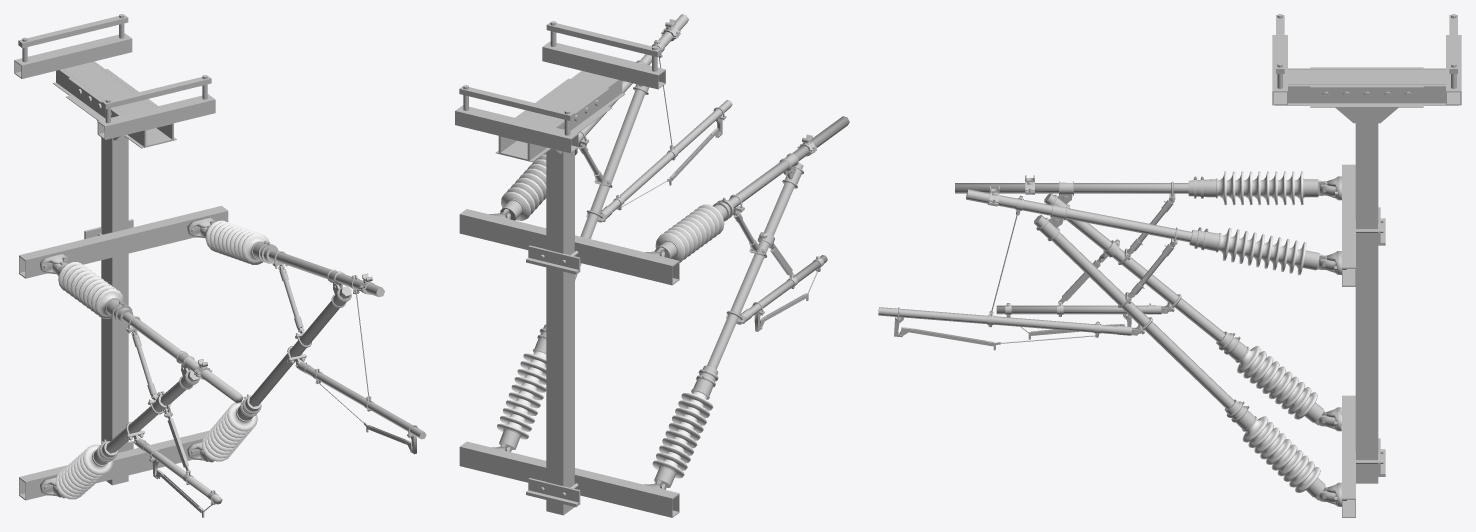
File: gantry_short_transition_2.obj
The picture shows the model from 3 angles, left to right: view 1: azimuth 30°, elevation 25°; view 2: azimuth 150°, elevation 25°; view 3: azimuth 270°, elevation 25°; orthographic projection. The views are drawn at different scales.
Parts seen in each view (by area): view 1: 立方体.106, 立方体.243, 立方体.248, 立方体.098, 立方体.096, 立方体.103, 贝塞尔曲线.182, 贝塞尔曲线.191, 贝塞尔曲线.183, 贝塞尔曲线.192, 贝塞尔曲线.181, 立方体.105 (+4 smaller); view 2: 立方体.106, 立方体.243, 立方体.248, 立方体.098, 立方体.096, 立方体.103, 贝塞尔曲线.192, 贝塞尔曲线.182, 贝塞尔曲线.191, 贝塞尔曲线.183, 立方体.105, 立方体.095 (+6 smaller); view 3: 立方体.106, 立方体.103, 贝塞尔曲线.182, 立方体.105, 贝塞尔曲线.181, 贝塞尔曲线.191, 贝塞尔曲线.192, 贝塞尔曲线.183, 立方体.243, 立方体.248, 贝塞尔曲线.199, 立方体.098 (+2 smaller).
Boxes of the visible parts, bbox=[...] form: 立方体.106: bbox=[101, 136, 128, 485]; 立方体.243: bbox=[19, 206, 228, 278]; 立方体.248: bbox=[19, 430, 209, 500]; 立方体.098: bbox=[14, 33, 132, 78]; 立方体.096: bbox=[97, 94, 215, 139]; 立方体.103: bbox=[59, 61, 158, 115]; 贝塞尔曲线.182: bbox=[249, 286, 351, 406]; 贝塞尔曲线.191: bbox=[122, 312, 243, 403]; 贝塞尔曲线.183: bbox=[305, 366, 426, 439]; 贝塞尔曲线.192: bbox=[106, 370, 198, 453]; 贝塞尔曲线.181: bbox=[268, 250, 384, 296]; 立方体.105: bbox=[56, 70, 173, 147]; 立方体.106: bbox=[546, 149, 574, 515]; 立方体.243: bbox=[459, 209, 679, 285]; 立方体.248: bbox=[459, 441, 679, 517]; 立方体.098: bbox=[455, 105, 578, 153]; 立方体.096: bbox=[542, 41, 665, 89]; 立方体.103: bbox=[515, 71, 618, 127]; 贝塞尔曲线.192: bbox=[707, 162, 803, 369]; 贝塞尔曲线.182: bbox=[575, 89, 645, 280]; 贝塞尔曲线.191: bbox=[728, 116, 849, 208]; 贝塞尔曲线.183: bbox=[607, 100, 732, 211]; 立方体.105: bbox=[498, 80, 622, 161]; 立方体.095: bbox=[546, 22, 661, 56]; 立方体.106: bbox=[1355, 107, 1378, 483]; 立方体.103: bbox=[1288, 67, 1445, 87]; 贝塞尔曲线.182: bbox=[1034, 214, 1234, 409]; 立方体.105: bbox=[1288, 69, 1445, 103]; 贝塞尔曲线.181: bbox=[966, 189, 1192, 242]; 贝塞尔曲线.191: bbox=[955, 183, 1188, 193]; 贝塞尔曲线.192: bbox=[1044, 193, 1224, 341]; 贝塞尔曲线.183: bbox=[878, 307, 1117, 334]; 立方体.243: bbox=[1342, 164, 1355, 286]; 立方体.248: bbox=[1342, 395, 1355, 517]; 贝塞尔曲线.199: bbox=[996, 305, 1146, 314]; 立方体.098: bbox=[1446, 35, 1461, 105].
Bounding box in the file's own units: 1.72 × 3.42 × 4.11.
